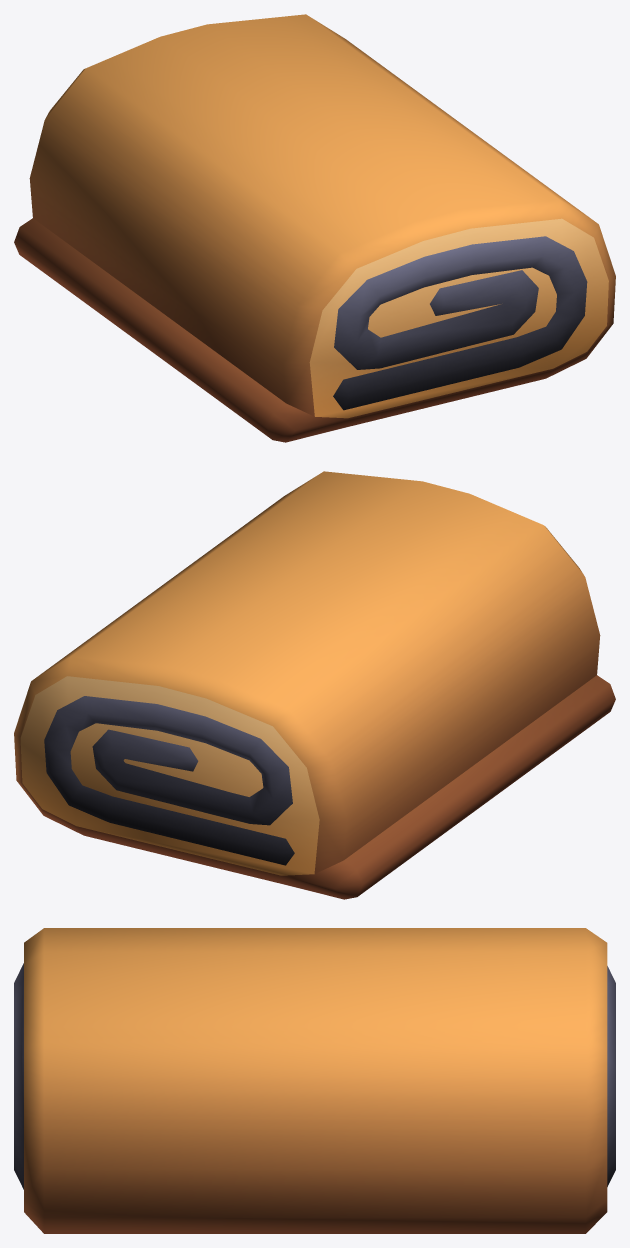
The model's file is m_PoppyStrudel01.fbx.
The picture shows the model from 3 angles, top to bottom: view 1: azimuth 30°, elevation 25°; view 2: azimuth 150°, elevation 25°; view 3: azimuth 270°, elevation 25°; orthographic projection. The views are drawn at different scales.
Parts seen in each view (by area): view 1: m_PoppyStrudel01; view 2: m_PoppyStrudel01; view 3: m_PoppyStrudel01.
Part boxes in pixels (x1,y1,x2,y2): m_PoppyStrudel01: (14, 14, 615, 442); m_PoppyStrudel01: (14, 471, 615, 899); m_PoppyStrudel01: (14, 928, 615, 1233).
Bounding box in the file's own units: 14.31 × 7.46 × 20.
